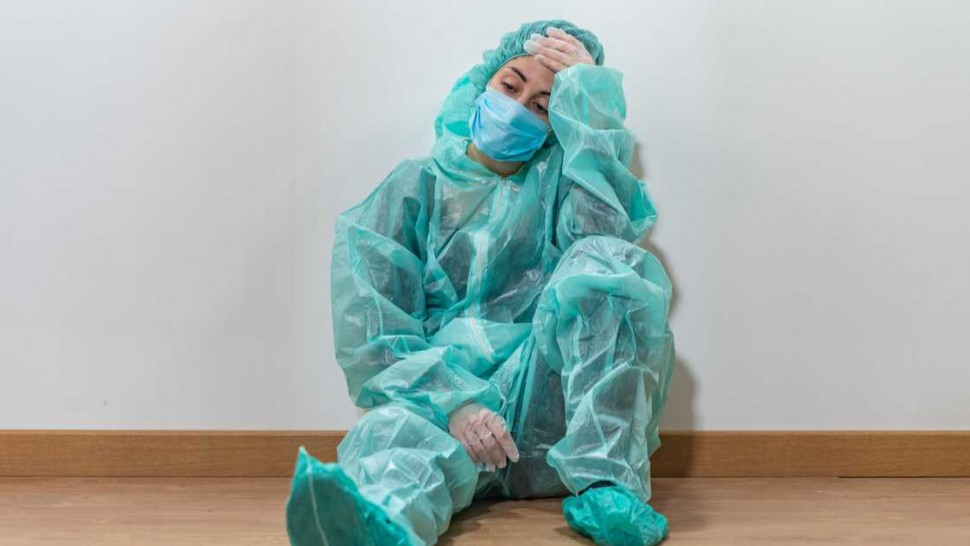with_mask: (479, 70, 552, 161)
